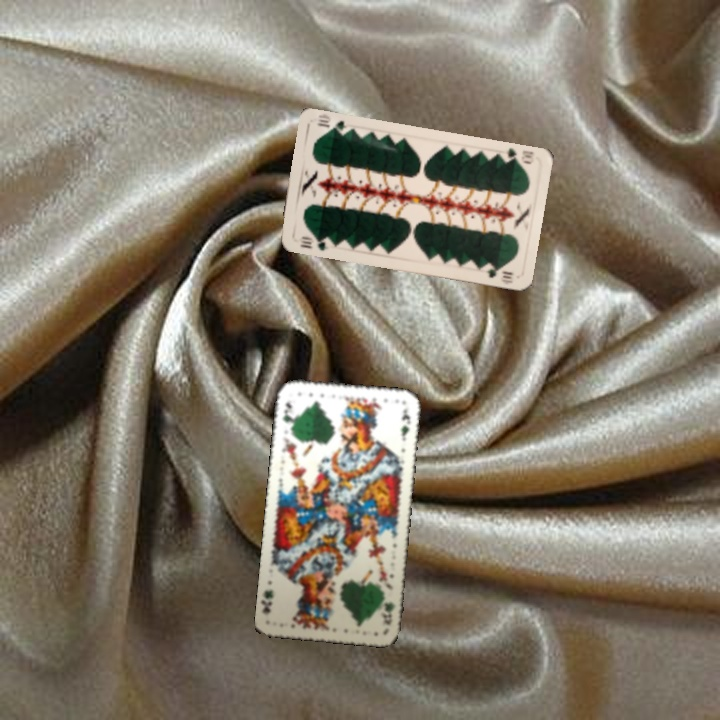G10: (497, 144, 536, 167), (296, 232, 333, 253)
GK: (278, 398, 296, 433), (379, 598, 397, 627)
